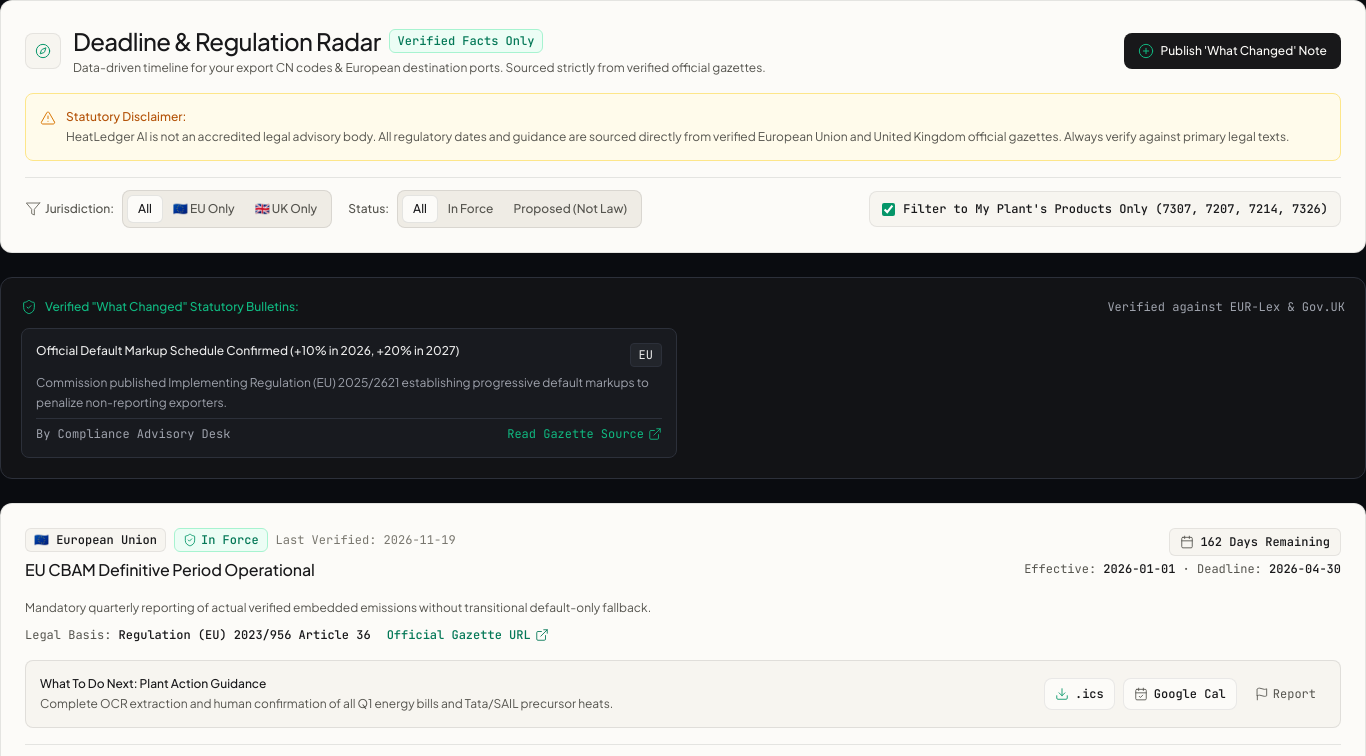
Test case: Prompt P7: Deadline and Regulation Radar › opens and submits "Report Regulatory Discrepancy" modal
Later steps or results of the test are not shown.
Expected: the heading "EU CBAM Definitive Period Operational" is shown, [25,559,315,580]
Click the button "Report": (1285, 694) [1245,678,1326,710]
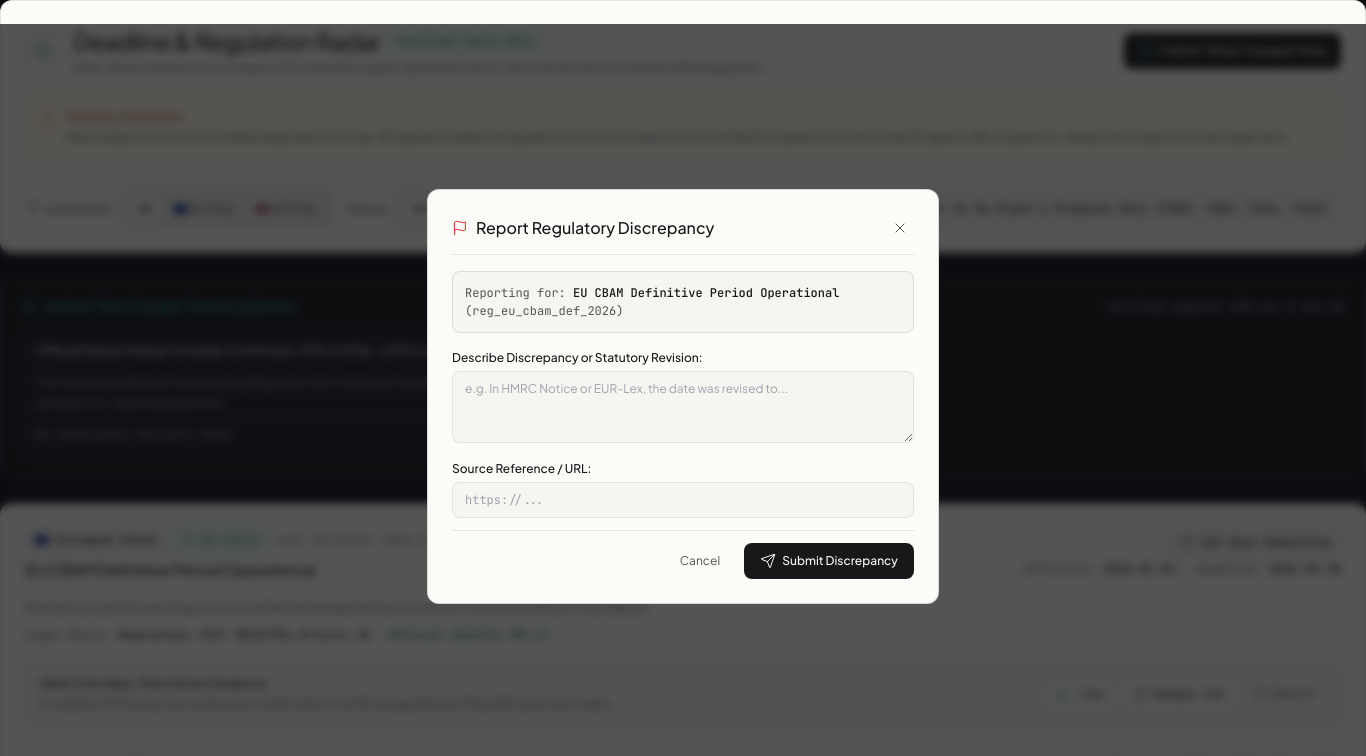
Expected: the heading "Report Regulatory Discrepancy" is shown, [476,216,714,240]
